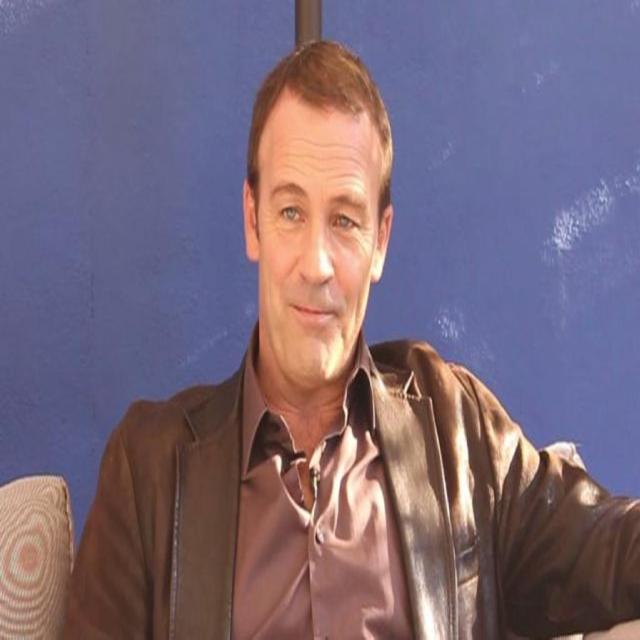Face: (250, 97, 380, 400)
